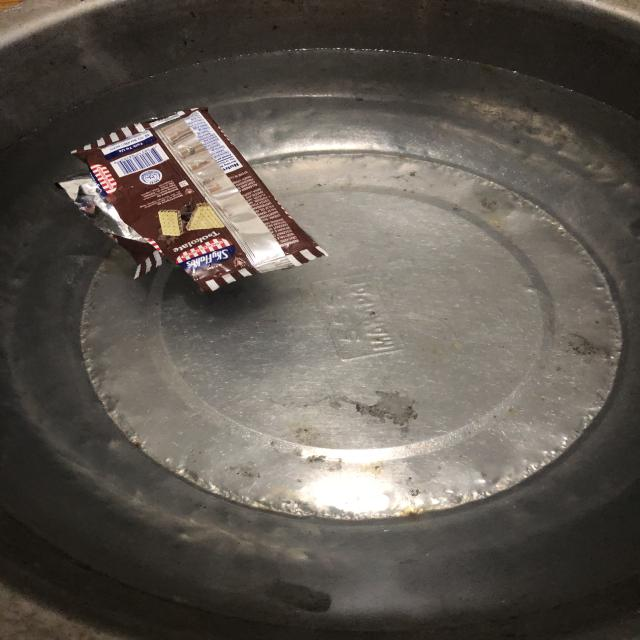Plastic Wrapper: (54, 108, 326, 292)
